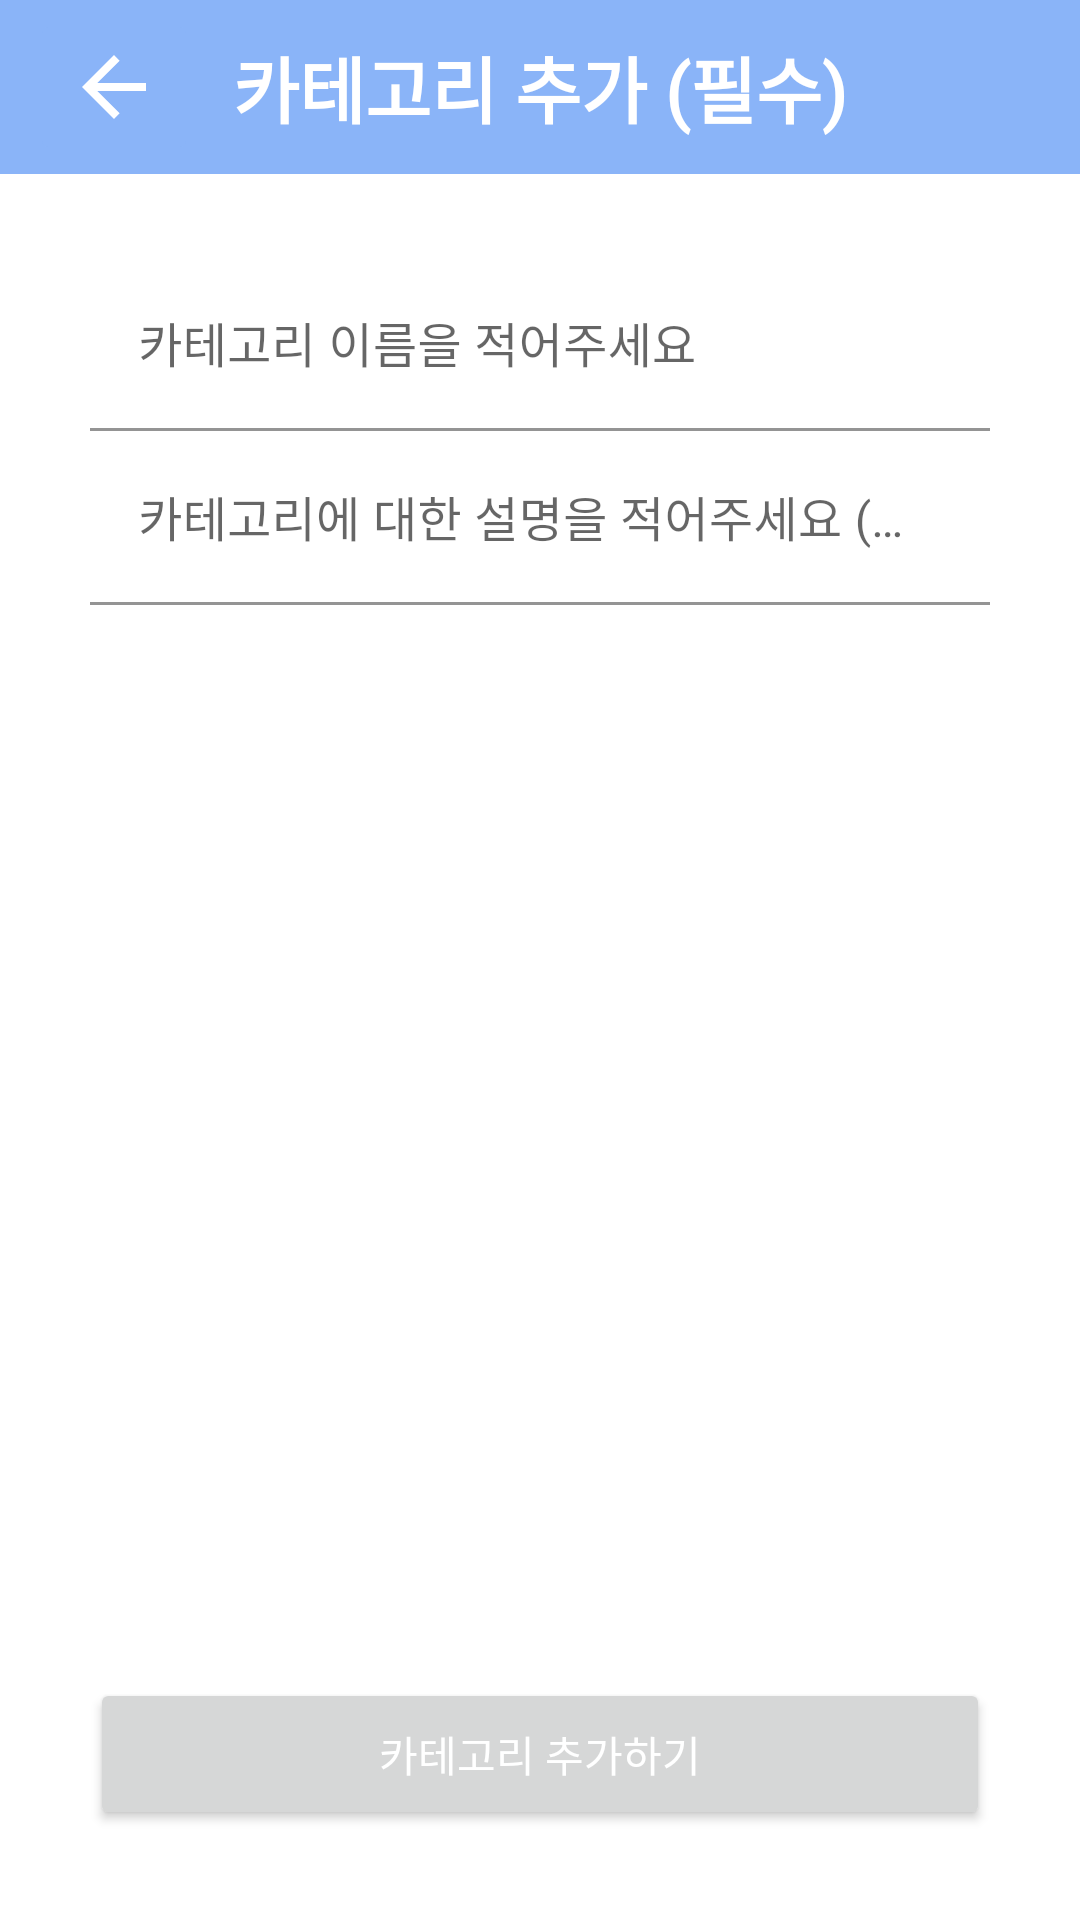

Screen size 1080 x 1920. Icon name, then its center in pixels as (x,y):
arrow back: (114,87)
